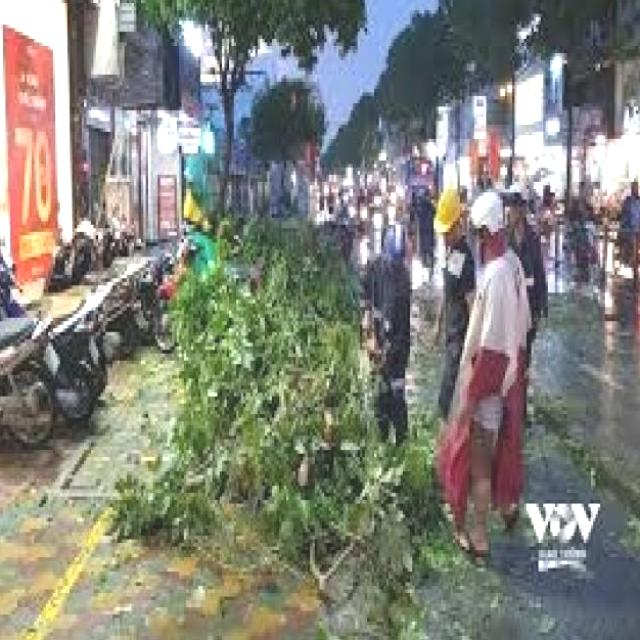fallen_object: (200, 169, 429, 606)
